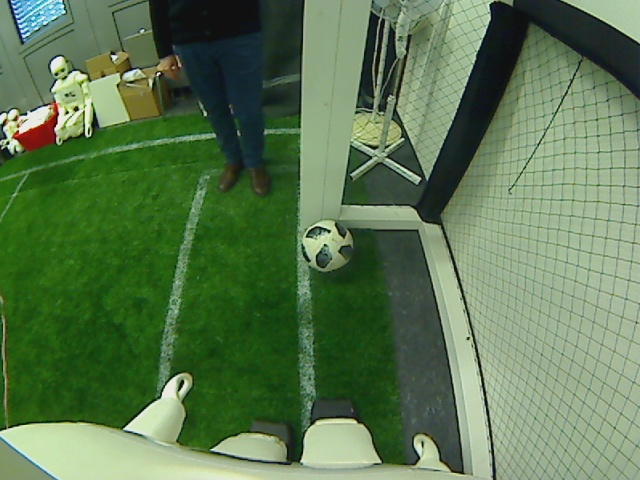ball: (303, 217, 354, 273)
